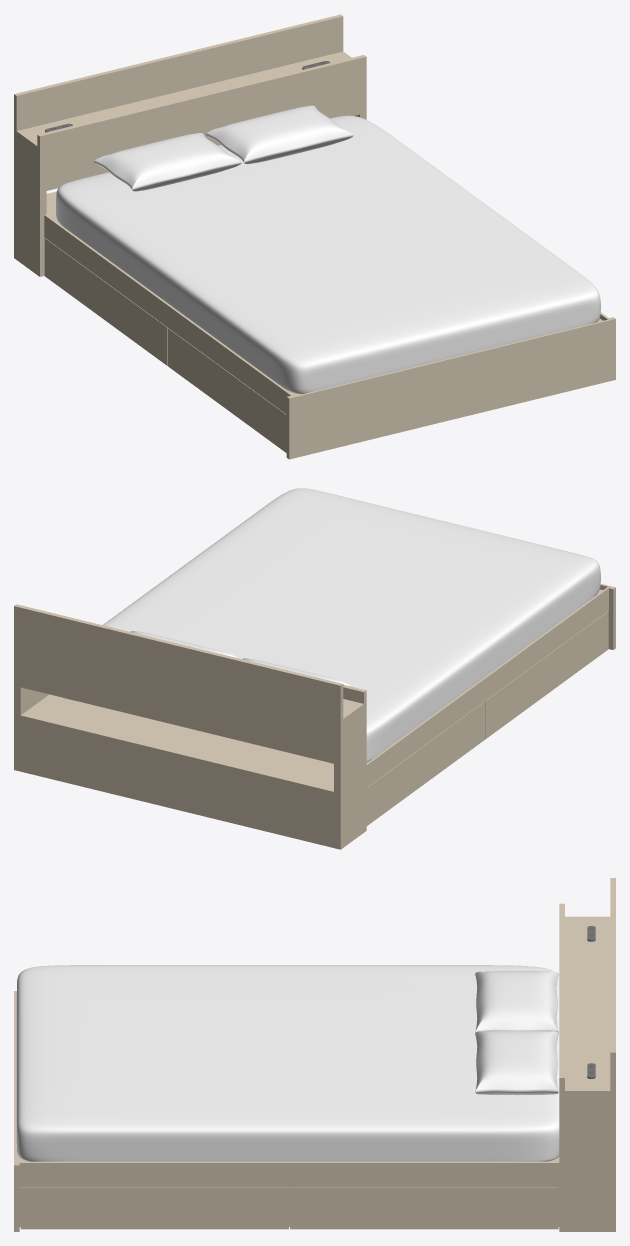
File: 130_ダブルベッド.glb
3 renders of one model, top to bottom at view 1: azimuth 30°, elevation 25°; view 2: azimuth 150°, elevation 25°; view 3: azimuth 270°, elevation 25°, orthographic. The views are drawn at different scales.
Visible parts, largest first — view 1: マットレス, body, 枕1, 枕2, 引き出し4, 引き出し3; view 2: マットレス, body, 引き出し3, 引き出し4; view 3: マットレス, body, 引き出し2, 引き出し1, 枕2, 枕1.
Part boxes in pixels (bbox=[...]): マットレス: bbox=[56, 115, 600, 394]; body: bbox=[14, 14, 615, 459]; 枕1: bbox=[94, 133, 241, 191]; 枕2: bbox=[206, 105, 353, 164]; 引き出し4: bbox=[44, 238, 167, 365]; 引き出し3: bbox=[168, 328, 286, 452]; マットレス: bbox=[62, 488, 600, 763]; body: bbox=[14, 584, 615, 849]; 引き出し3: bbox=[485, 611, 608, 739]; 引き出し4: bbox=[366, 701, 485, 825]; マットレス: bbox=[16, 965, 559, 1161]; body: bbox=[14, 878, 615, 1231]; 引き出し2: bbox=[290, 1187, 558, 1229]; 引き出し1: bbox=[20, 1187, 288, 1229]; 枕2: bbox=[475, 1030, 558, 1095]; 枕1: bbox=[475, 971, 558, 1032].
Size of the model in its own units: 1.46 by 0.7 by 2.13.
